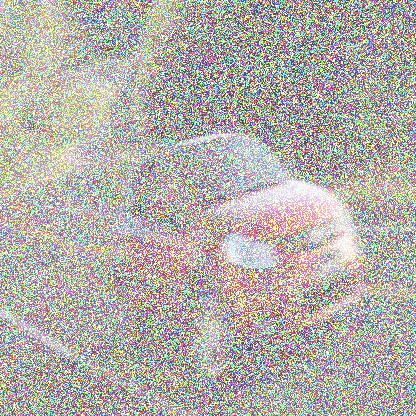Vehicle: (112, 126, 367, 395)
